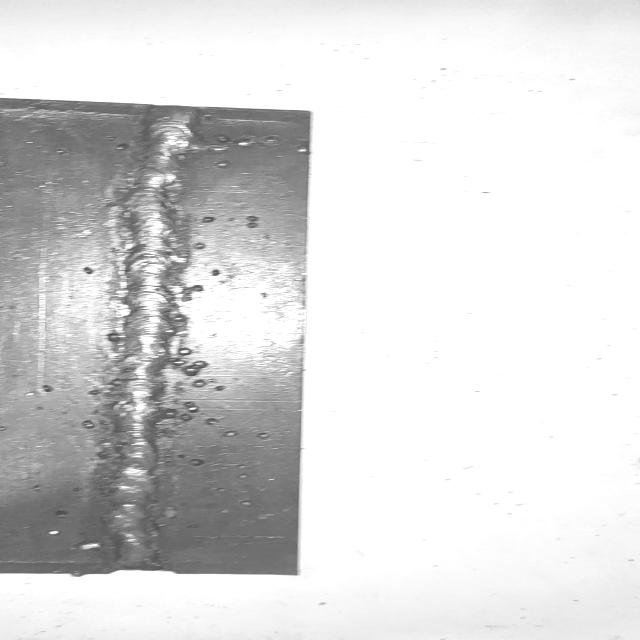Bad Weld: (101, 108, 198, 569)
Defect: (156, 340, 229, 391), (183, 125, 283, 153), (156, 403, 223, 429)
